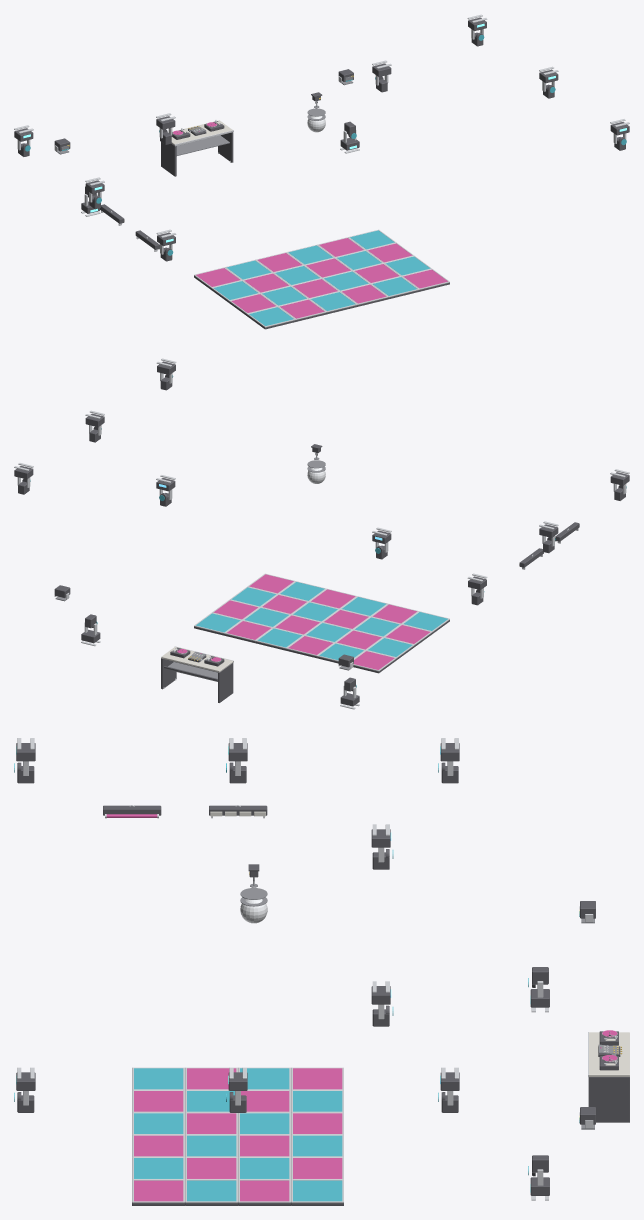
File: denmu-premium-lighting.glb
The picture shows the model from 3 angles, top to bottom: view 1: azimuth 30°, elevation 25°; view 2: azimuth 150°, elevation 25°; view 3: azimuth 270°, elevation 25°; orthographic projection. The views are drawn at different scales.
Visible parts, largest first — view 1: dj-booth-desk, led-floor-tile-module-cyan, led-floor-tile-module, led-floor-tile-module-cyan_1.003, led-floor-tile-module-cyan_1.004, led-floor-tile-module-cyan_1.010, led-floor-tile-module_1.002, led-floor-tile-module_1.011, led-floor-tile-module-cyan_1.002, led-floor-tile-module-cyan_1.011, led-floor-tile-module_1.003, led-floor-tile-module_1.004 (+13 smaller); view 2: dj-booth-desk, led-floor-tile-module, led-floor-tile-module-cyan, led-floor-tile-module_1.003, led-floor-tile-module_1.009, led-floor-tile-module-cyan_1.008, led-floor-tile-module-cyan_1.009, led-floor-tile-module-cyan_1.001, led-floor-tile-module-cyan_1.003, led-floor-tile-module-cyan_1.006, led-floor-tile-module-cyan_1.010, led-floor-tile-module-cyan_1.011 (+10 smaller); view 3: dj-booth-desk, led-floor-tile-module, led-floor-tile-module-cyan_1.007, led-floor-tile-module_1.007, led-floor-tile-module-cyan_1.001, led-floor-tile-module-cyan_1.006, led-floor-tile-module-cyan_1.010, led-floor-tile-module-cyan_1.011, led-floor-tile-module_1.006, led-floor-tile-module_1.010, led-floor-tile-module_1.011, led-floor-tile-module-cyan_1.002 (+15 smaller).
Boxes of the visible parts, x1=… form: dj-booth-desk: x1=161, y1=120, x2=233, y2=176; led-floor-tile-module-cyan: x1=211, y1=280, x2=259, y2=303; led-floor-tile-module: x1=194, y1=267, x2=241, y2=289; led-floor-tile-module-cyan_1.003: x1=262, y1=286, x2=306, y2=305; led-floor-tile-module-cyan_1.004: x1=275, y1=266, x2=319, y2=284; led-floor-tile-module-cyan_1.010: x1=350, y1=230, x2=394, y2=249; led-floor-tile-module_1.002: x1=244, y1=273, x2=288, y2=292; led-floor-tile-module_1.011: x1=403, y1=269, x2=447, y2=288; led-floor-tile-module-cyan_1.002: x1=226, y1=260, x2=270, y2=279; led-floor-tile-module-cyan_1.011: x1=386, y1=256, x2=430, y2=275; led-floor-tile-module_1.003: x1=280, y1=299, x2=324, y2=318; led-floor-tile-module_1.004: x1=258, y1=253, x2=301, y2=271; dj-booth-desk: x1=161, y1=646, x2=233, y2=702; led-floor-tile-module: x1=353, y1=650, x2=396, y2=673; led-floor-tile-module-cyan: x1=366, y1=637, x2=414, y2=659; led-floor-tile-module_1.003: x1=373, y1=604, x2=417, y2=623; led-floor-tile-module_1.009: x1=262, y1=595, x2=306, y2=613; led-floor-tile-module-cyan_1.008: x1=245, y1=608, x2=288, y2=626; led-floor-tile-module-cyan_1.009: x1=280, y1=582, x2=324, y2=600; led-floor-tile-module-cyan_1.001: x1=404, y1=612, x2=447, y2=630; led-floor-tile-module-cyan_1.003: x1=355, y1=617, x2=399, y2=636; led-floor-tile-module-cyan_1.006: x1=257, y1=628, x2=301, y2=647; led-floor-tile-module-cyan_1.010: x1=196, y1=613, x2=240, y2=632; led-floor-tile-module-cyan_1.011: x1=231, y1=587, x2=275, y2=606; dj-booth-desk: x1=588, y1=1032, x2=629, y2=1122; led-floor-tile-module: x1=291, y1=1067, x2=343, y2=1089; led-floor-tile-module-cyan_1.007: x1=187, y1=1135, x2=236, y2=1156; led-floor-tile-module_1.007: x1=134, y1=1135, x2=183, y2=1156; led-floor-tile-module-cyan_1.001: x1=134, y1=1068, x2=183, y2=1089; led-floor-tile-module-cyan_1.006: x1=293, y1=1135, x2=342, y2=1156; led-floor-tile-module-cyan_1.010: x1=293, y1=1180, x2=342, y2=1201; led-floor-tile-module-cyan_1.011: x1=187, y1=1180, x2=236, y2=1201; led-floor-tile-module_1.006: x1=240, y1=1135, x2=289, y2=1156; led-floor-tile-module_1.010: x1=240, y1=1180, x2=289, y2=1201; led-floor-tile-module_1.011: x1=134, y1=1180, x2=183, y2=1201; led-floor-tile-module-cyan_1.002: x1=293, y1=1091, x2=342, y2=1111.
Size of the model in its own units: 15.16 by 5.65 by 11.62.
